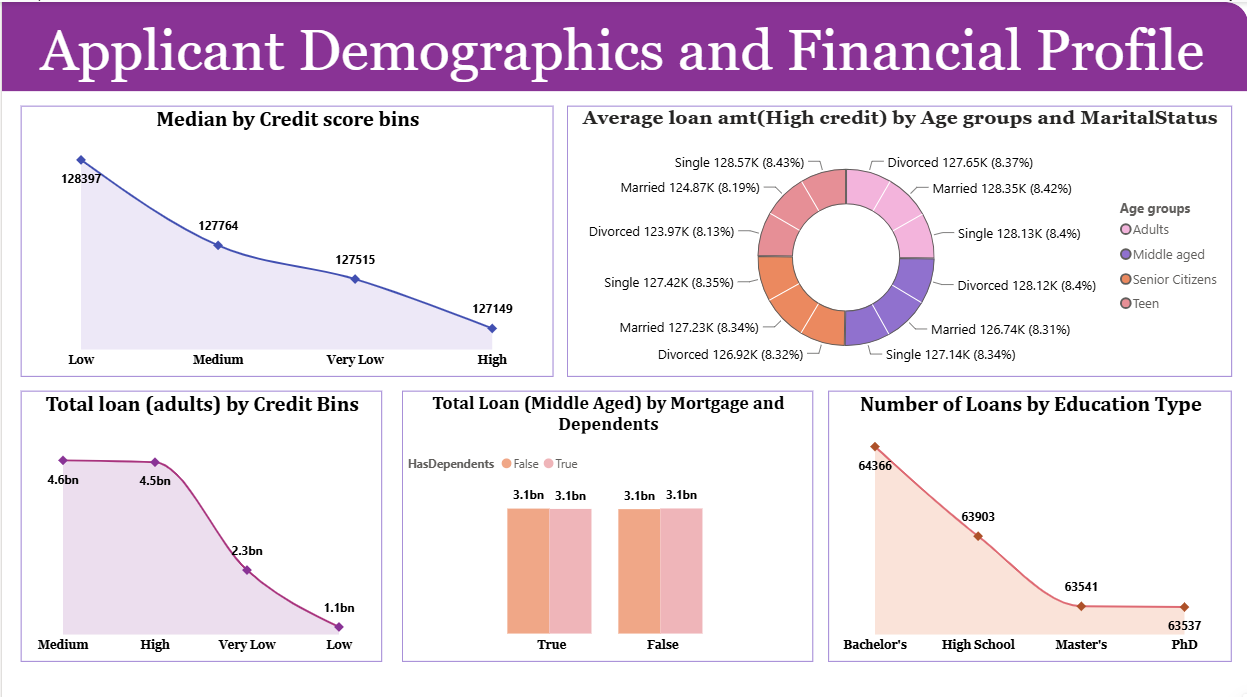

The page's visual inventory and layout, read from the dashboard file:
{"tool":"powerbi","page":{"name":"Applicant Demographics and Financial Profile","canvas":[1280,720],"ordinal":1},"visuals":[{"type":"shape","box":[0,0,1280.3,91.9],"z":0},{"type":"lineChart","title":"Median by Credit score bins","fields":{"Category":["Loan_default.Credit score bins"],"Y":["Measures Table2.Median by Credit score"]},"box":[19.3,106.6,547,278.7],"z":2},{"type":"donutChart","fields":{"Category":["Loan_default.Age groups"],"Series":["Loan_default.MaritalStatus"],"Y":["Measures Table2.Average loan amt(High credit)"]},"box":[580.4,106.6,683.1,278.7],"z":3},{"type":"lineChart","title":"Total loan (adults) by Credit Bins","fields":{"Category":["Loan_default.Credit score bins"],"Y":["Measures Table2.Total loan(adults) by credit bins"]},"box":[19.3,399.4,371.1,278.7],"z":4},{"type":"clusteredColumnChart","title":"Total Loan (Middle Aged) by Mortgage and Dependents","fields":{"Category":["Loan_default.HasMortgage"],"Series":["Loan_default.HasDependents"],"Y":["Measures Table2.Total loan Amount (middle aged)"]},"box":[410.9,399.4,422.5,278.7],"z":5},{"type":"lineChart","title":"Number of Loans by Education Type","fields":{"Category":["Loan_default.Education"],"Y":["Measures Table2.loan by education type"]},"box":[848.8,399.4,414.8,278.7],"z":6}]}

Visuals, with their boxes in screenshot pixels (x1, y1, x2, y2), scaled from the page's 1280x720 canvas onto the 1247x697 screenshot:
shape: Rect(0, 0, 1246, 89)
"Median by Credit score bins" lineChart: Rect(19, 103, 552, 373)
donutChart - Loan_default.Age groups x Loan_default.MaritalStatus: Rect(565, 103, 1231, 373)
"Total loan (adults) by Credit Bins" lineChart: Rect(19, 387, 380, 656)
"Total Loan (Middle Aged) by Mortgage and Dependents" clusteredColumnChart: Rect(400, 387, 812, 656)
"Number of Loans by Education Type" lineChart: Rect(827, 387, 1231, 656)
